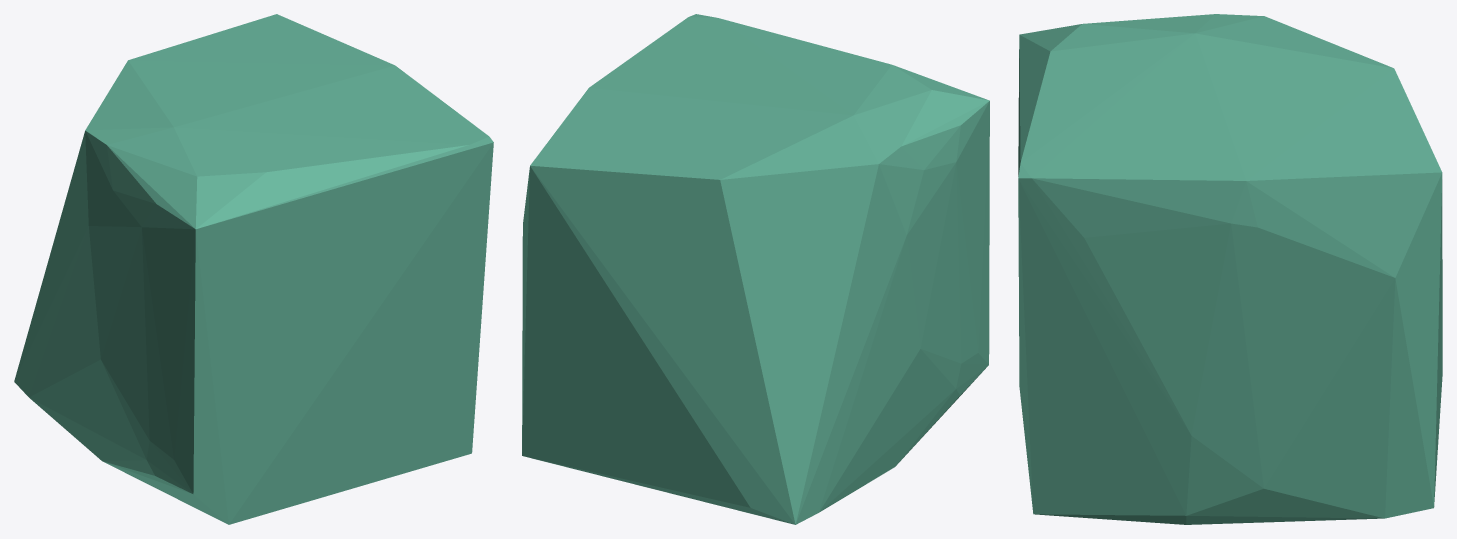
File: pallet_assembly_transparent_a05.glb
The picture shows the model from 3 angles, left to right: view 1: azimuth 30°, elevation 25°; view 2: azimuth 150°, elevation 25°; view 3: azimuth 270°, elevation 25°; orthographic projection. The views are drawn at different scales.
Parts seen in each view (by area): view 1: geometry_0; view 2: geometry_0; view 3: geometry_0.
Boxes of the visible parts, x1,y1,x2,y2 form: geometry_0: [14, 14, 493, 524]; geometry_0: [522, 14, 989, 524]; geometry_0: [1018, 14, 1442, 524].
Size of the model in its own units: 0.4449 by 0.441 by 0.4589.
